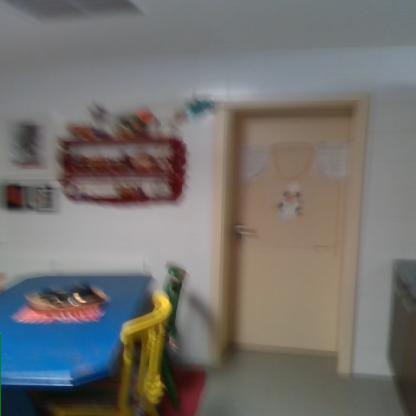door: (233, 115, 349, 359)
lever: (235, 228, 261, 238)
